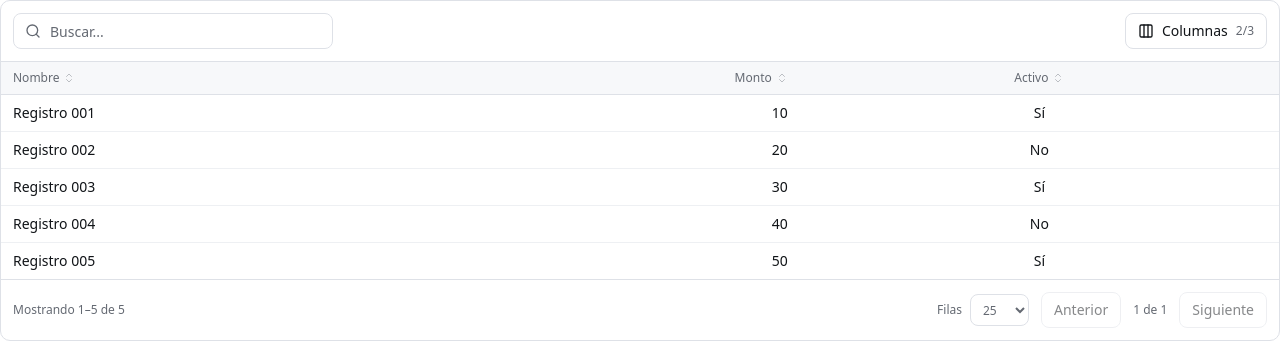
Test: AdvancedTable › configuración de columnas › muestra en la tabla una columna oculta al marcarla
Click the button with aria-label "Columnas,". click: (1196, 31)
box: [1125, 13, 1267, 49]
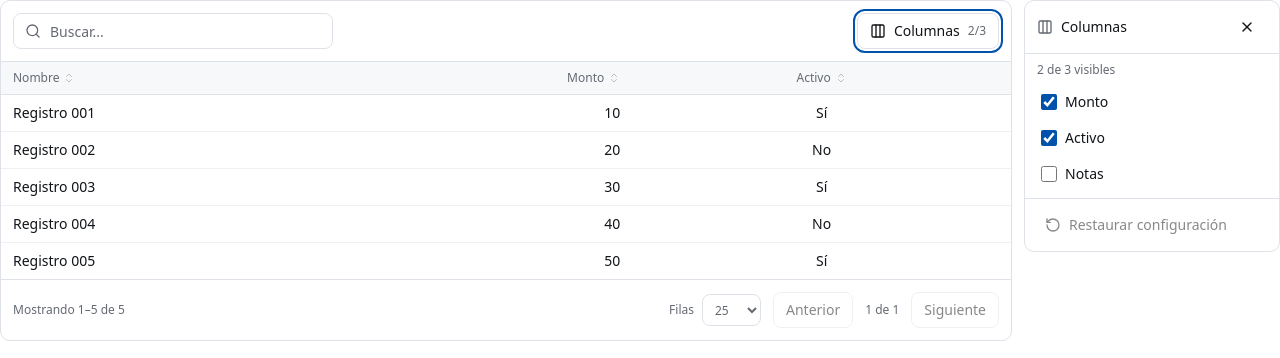
Click the checkbox labelled "Notas". click: (1049, 174)
box: [1041, 166, 1057, 182]
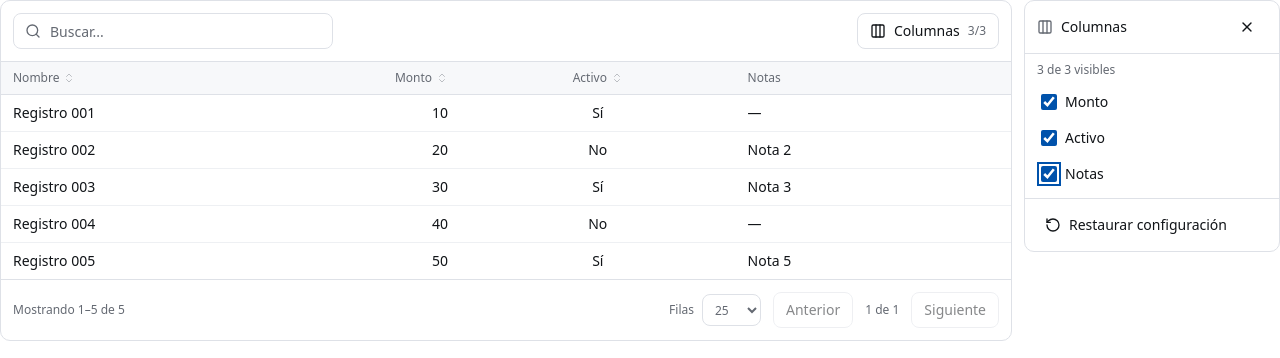
Now the column heading "Notas" is shown, box [736, 62, 1011, 94]
